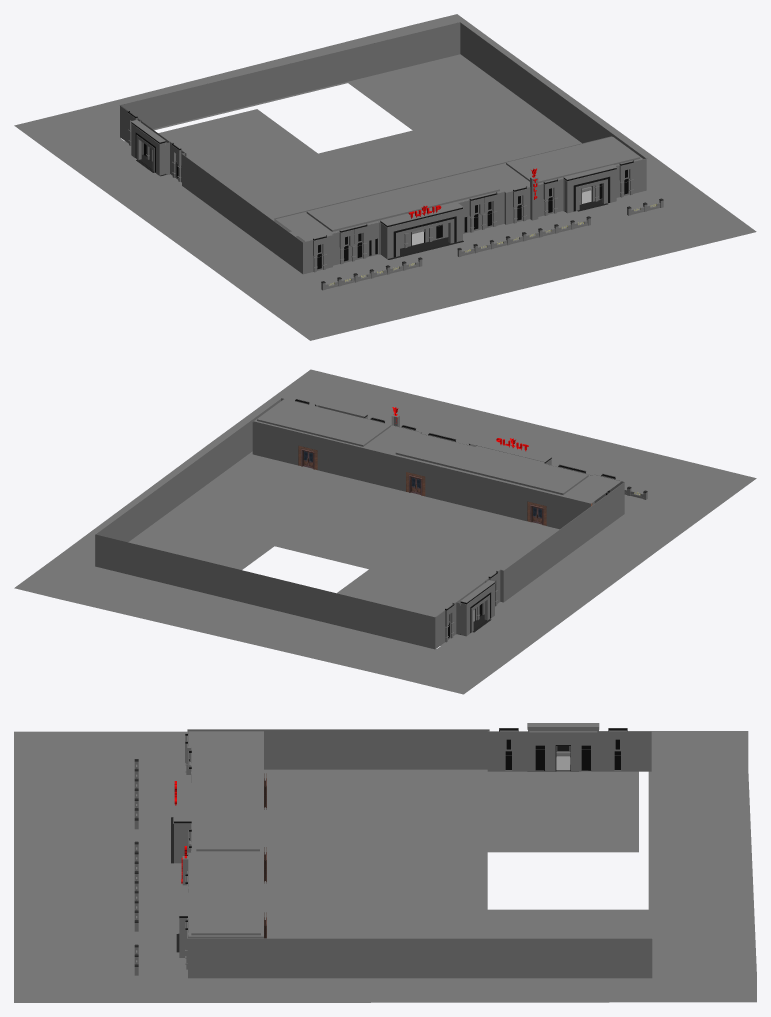
File: Tulip.fbx
3 views of the same model, one above another, from view 1: azimuth 30°, elevation 25°; view 2: azimuth 150°, elevation 25°; view 3: azimuth 270°, elevation 25° (orthographic). The views are drawn at different scales.
Visible parts, largest first — view 1: Plane026, hall_2, walls, Object012, hall-1, Roof, gate, Hall_3, Object010, Object005, gate001, window (+1 smaller); view 2: Plane026, hall-1, hall_2, Object012, walls, Roof, Hall_1_Inner, Hall_2l_Inner, Hall_3, Object005, gate001, gate; view 3: Plane026, hall-1, walls, Roof, Hall_3, hall_2, Object012, Object005, gate, Object011, Object010, gate001 (+1 smaller).
Boxes of the visible parts, x1=… form: Plane026: x1=14, y1=14, x2=756, y2=340; hall_2: x1=348, y1=56, x2=578, y2=170; walls: x1=182, y1=22, x2=647, y2=274; Object012: x1=120, y1=22, x2=460, y2=182; hall-1: x1=216, y1=130, x2=467, y2=220; Roof: x1=302, y1=136, x2=642, y2=233; gate: x1=313, y1=160, x2=634, y2=272; Hall_3: x1=125, y1=109, x2=317, y2=178; Object010: x1=321, y1=198, x2=663, y2=290; Object005: x1=275, y1=164, x2=529, y2=241; gate001: x1=127, y1=110, x2=181, y2=181; window: x1=317, y1=169, x2=628, y2=269; Plane026: x1=14, y1=369, x2=756, y2=694; hall-1: x1=275, y1=481, x2=559, y2=593; hall_2: x1=131, y1=454, x2=362, y2=569; Object012: x1=95, y1=534, x2=501, y2=649; walls: x1=94, y1=398, x2=624, y2=602; Roof: x1=254, y1=399, x2=592, y2=496; Hall_1_Inner: x1=363, y1=449, x2=589, y2=529; Hall_2l_Inner: x1=252, y1=422, x2=363, y2=481; Hall_3: x1=337, y1=569, x2=467, y2=645; Object005: x1=253, y1=421, x2=620, y2=506; gate001: x1=445, y1=571, x2=498, y2=642; gate: x1=295, y1=399, x2=615, y2=479; Plane026: x1=14, y1=731, x2=756, y2=1002; hall-1: x1=264, y1=772, x2=487, y2=909; walls: x1=187, y1=729, x2=652, y2=978; Roof: x1=188, y1=747, x2=263, y2=936; Hall_3: x1=487, y1=771, x2=638, y2=852; hall_2: x1=264, y1=909, x2=648, y2=938; Object012: x1=487, y1=731, x2=651, y2=771; Object005: x1=188, y1=731, x2=263, y2=938; gate: x1=173, y1=733, x2=191, y2=969; Object011: x1=528, y1=732, x2=598, y2=771; Object010: x1=134, y1=759, x2=138, y2=975; gate001: x1=499, y1=723, x2=627, y2=732.
Bounding box in the file's own units: 101 × 10.88 × 117.
